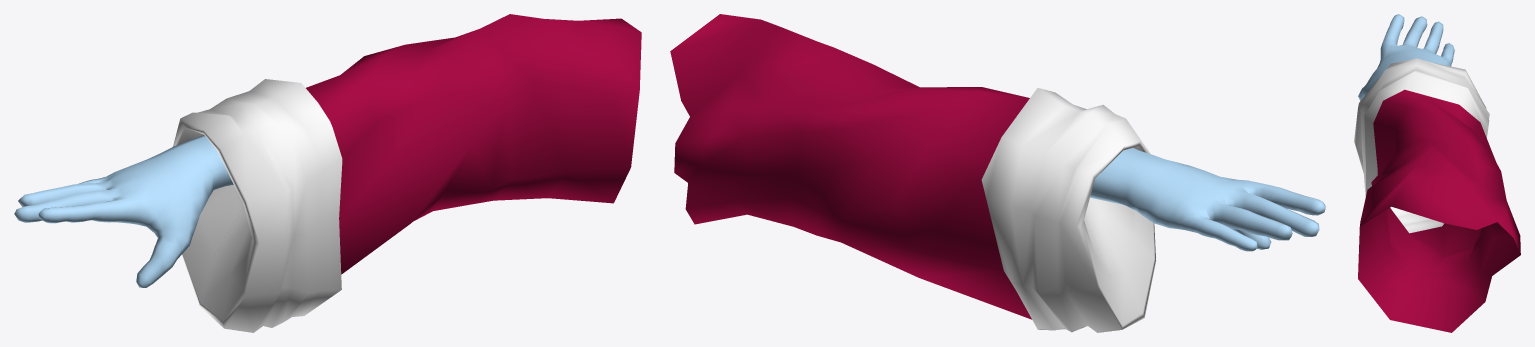
Rendered from bDer.obj.
3 renders of one model, left to right at view 1: azimuth 30°, elevation 25°; view 2: azimuth 150°, elevation 25°; view 3: azimuth 270°, elevation 25°, orthographic. The views are drawn at different scales.
Parts seen in each view (by area): view 1: polySurface60; view 2: polySurface60; view 3: polySurface60.
Boxes of the visible parts, x1=… form: polySurface60: x1=14, y1=14, x2=641, y2=332; polySurface60: x1=670, y1=14, x2=1325, y2=332; polySurface60: x1=1354, y1=14, x2=1520, y2=332.
Size of the model in its own units: 1.1 by 0.3885 by 0.3353.
1 material, 1 textured.
